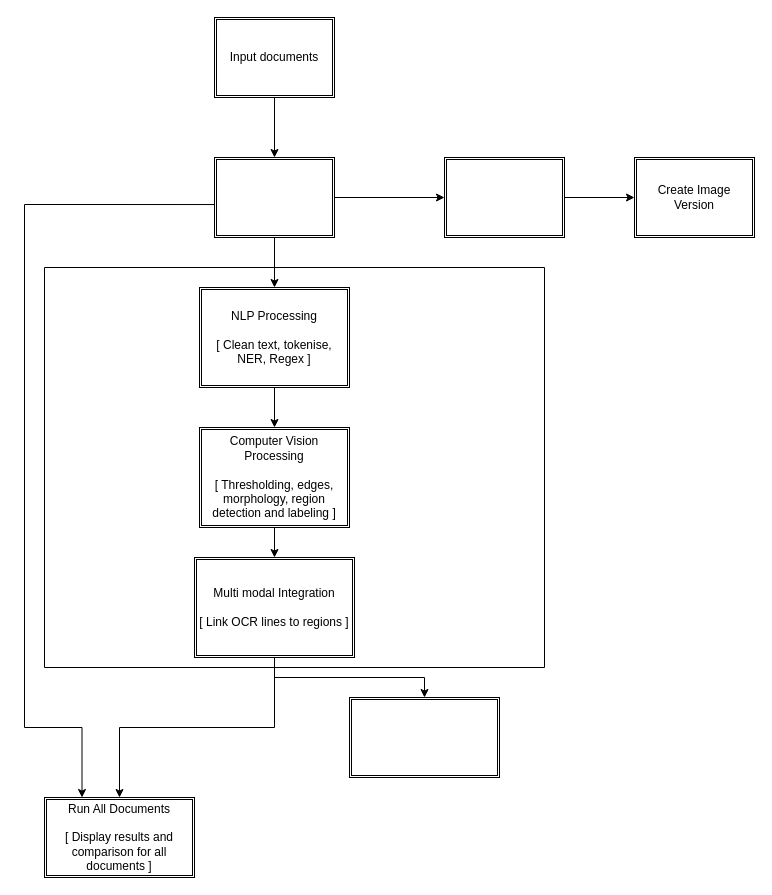
This 772x895 diagram has some shape labels left out. The shapes that lost their labels are listed below. From the top down, each one's centre as x and y in pixels, then its label:
point 274,197: Document setup
point 504,197: Load/Convert PDFs
point 424,737: Final Report - Single Run
